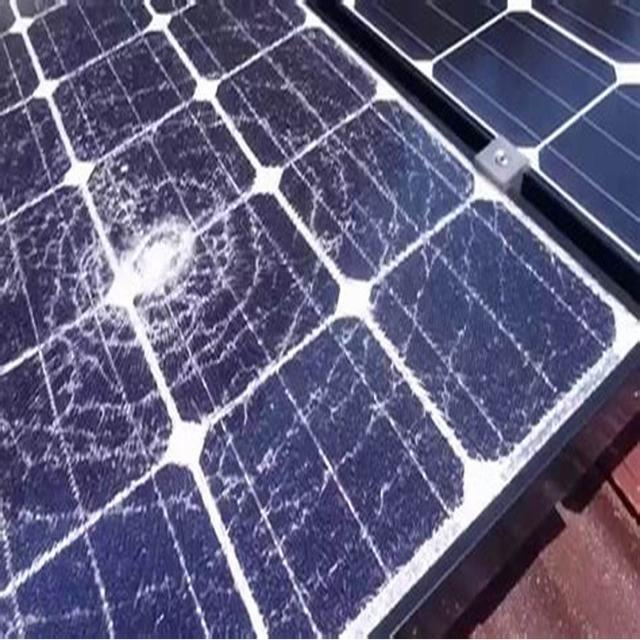physical damage: (0, 0, 620, 640)
